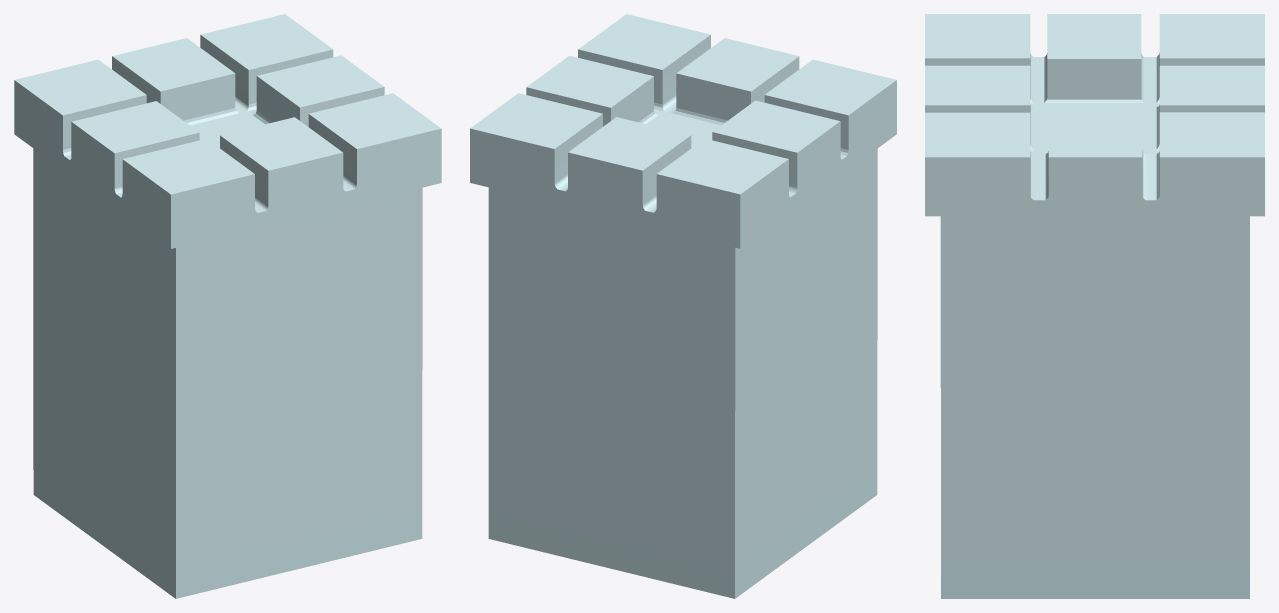
The model's file is SS_Castle_Tower1.fbx.
The picture shows the model from 3 angles, left to right: view 1: azimuth 30°, elevation 25°; view 2: azimuth 150°, elevation 25°; view 3: azimuth 270°, elevation 25°; orthographic projection. The views are drawn at different scales.
Parts seen in each view (by area): view 1: Castle_Tower1; view 2: Castle_Tower1; view 3: Castle_Tower1.
Boxes of the visible parts, left/top/right/bottom form: Castle_Tower1: left=14, top=14, right=441, bottom=598; Castle_Tower1: left=470, top=14, right=896, bottom=598; Castle_Tower1: left=925, top=14, right=1264, bottom=598.
Bounding box in the file's own units: 5.49 × 8 × 5.5.
